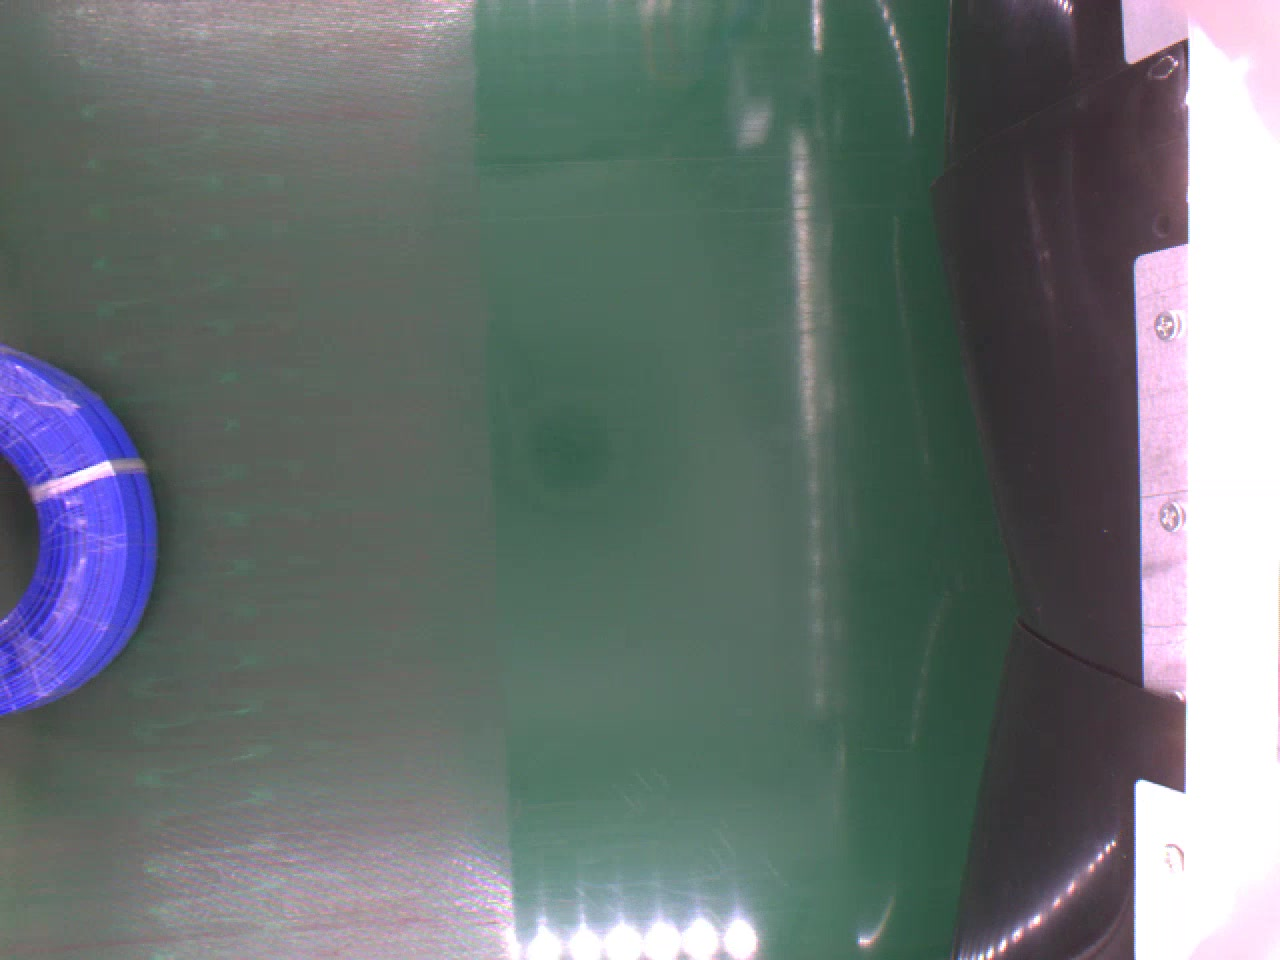blue: (1, 346, 158, 708)
